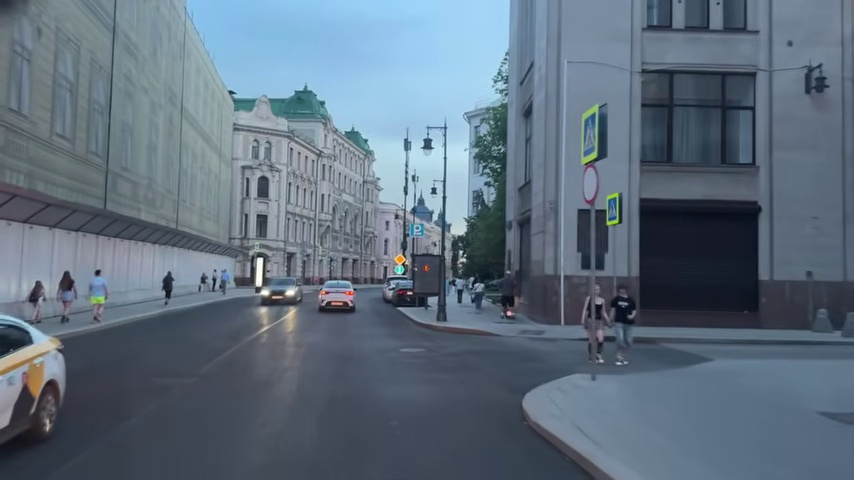apagada: (801, 67, 831, 104)
